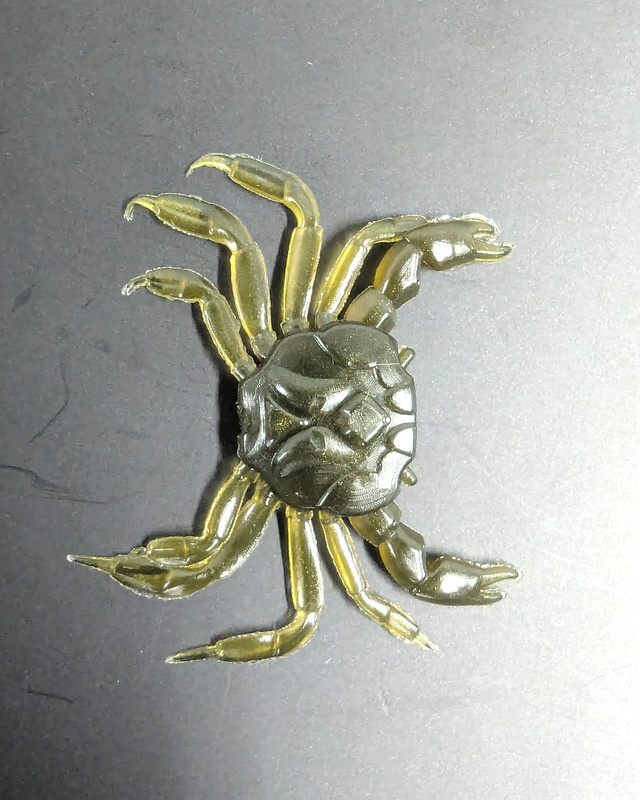crab2: (64, 147, 526, 670)
